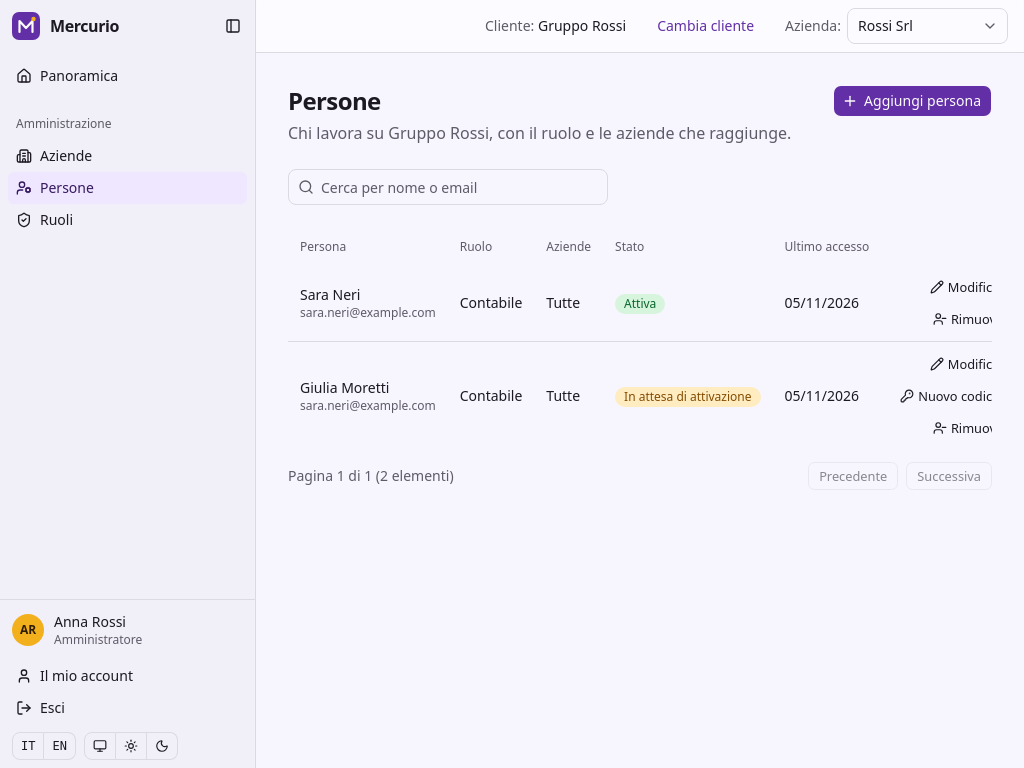
Test: people › offers a new code only to who is waiting for activation, and explains a refused change
This screenshot has width=1024, height=768.
Expected: the text "In attesa di attivazione" is shown, [615, 386, 761, 406]
Expected: the button "Nuovo codice" is shown, [893, 382, 992, 410]
Click the 1st button "Rimuovi" at (968, 319), box [926, 305, 1010, 333]
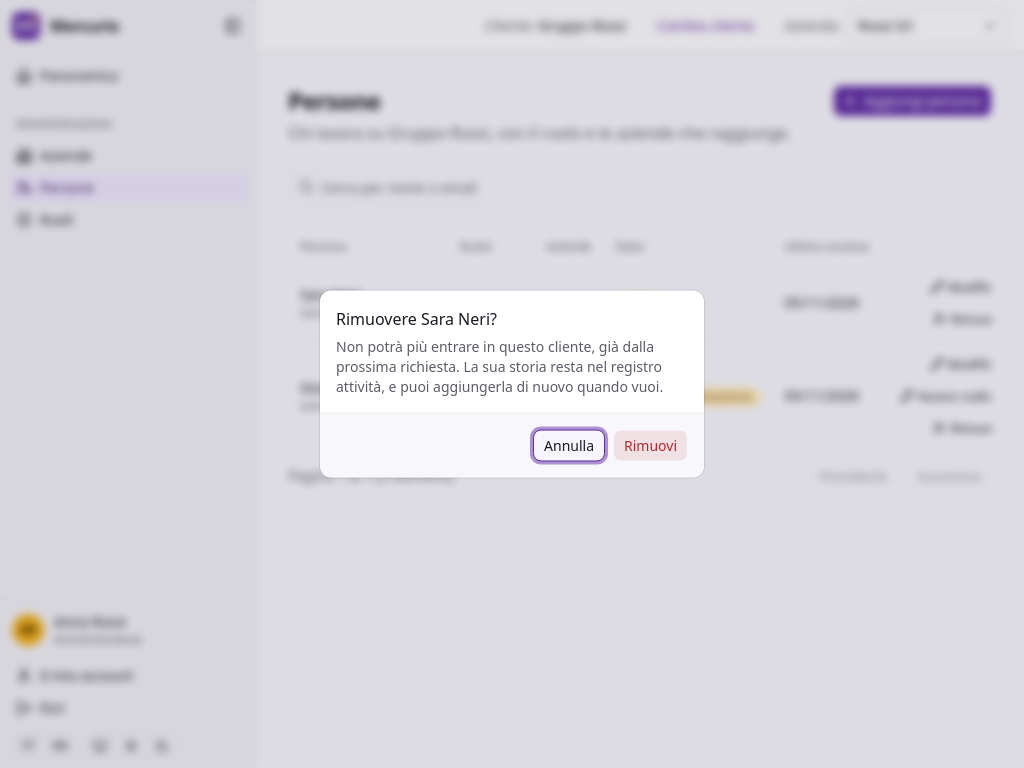
Click the button "Rimuovi" at (650, 446), box [613, 430, 688, 462]
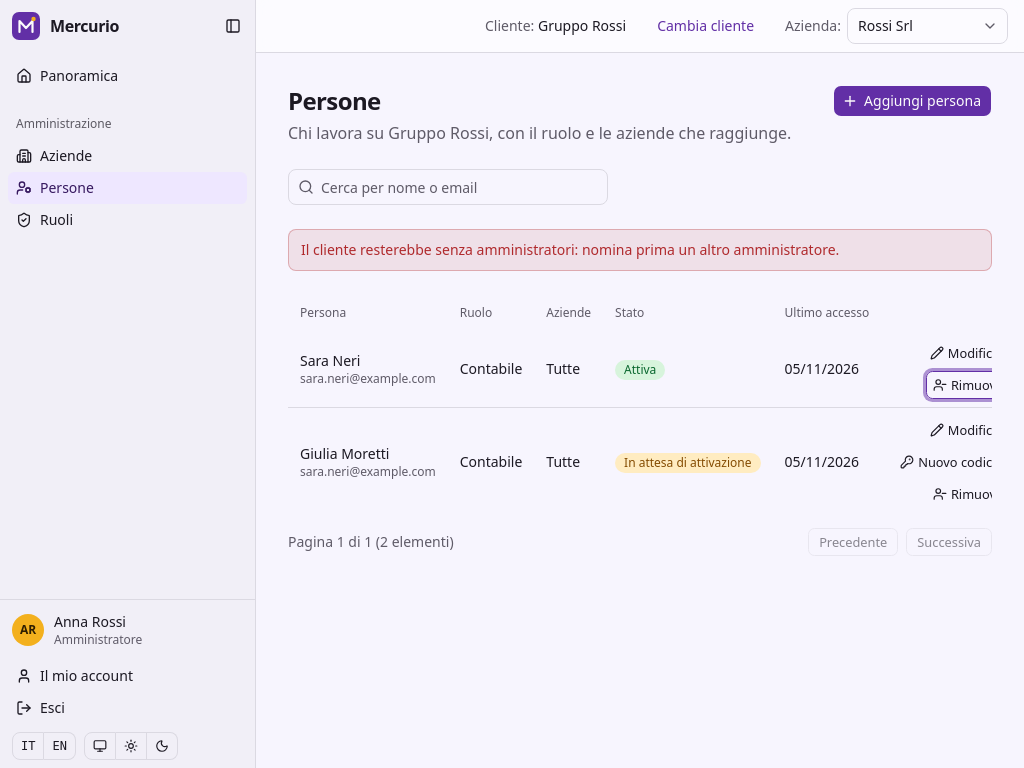
Result: the text "resterebbe senza amministratori" is shown at [301, 240, 839, 259]
